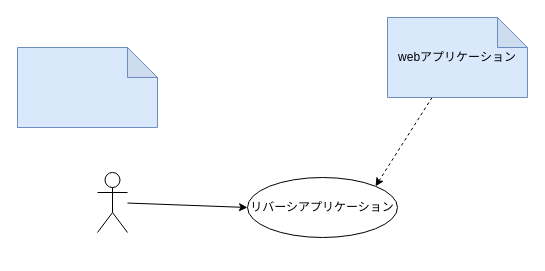
Image size: 545x271. Some labels were removed from this diagram. The box of each missing label's shape, as (x1, y1, x2, y2) in pixels:
プレイヤー: (96, 172, 128, 232)
一人で交互に打つ: (16, 46, 158, 128)
